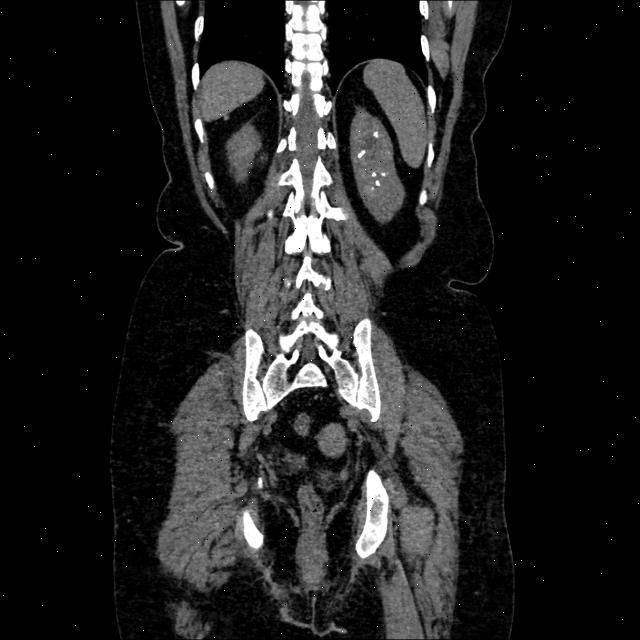kidneystone: (358, 150, 366, 158), (374, 131, 379, 138), (371, 171, 376, 176), (381, 171, 385, 177), (375, 181, 380, 185)
